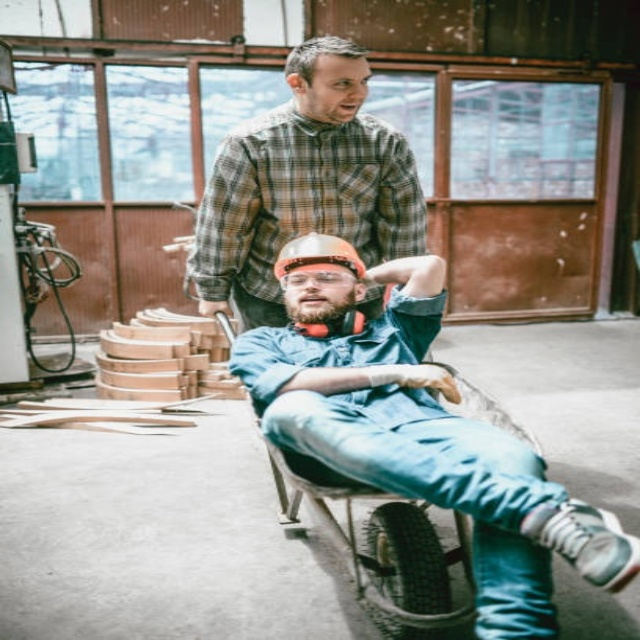Gafas: (279, 266, 358, 288)
Guantes: (368, 362, 462, 403)
Sin_gafas: (320, 72, 376, 89)
Sin_guantes: (192, 296, 231, 322)
Sin_mascara: (285, 293, 331, 313), (329, 99, 364, 114)
